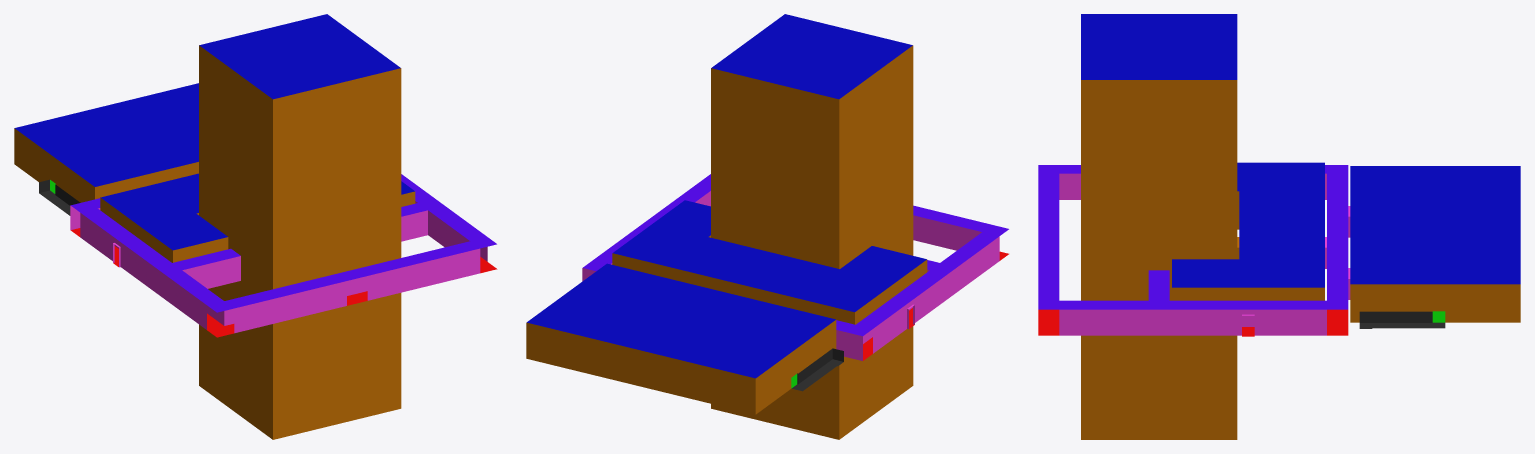
File: LabCentral.obj
3 renders of one model, left to right at view 1: azimuth 30°, elevation 25°; view 2: azimuth 150°, elevation 25°; view 3: azimuth 270°, elevation 25°, orthographic. The views are drawn at different scales.
Parts seen in each view (by area): view 1: Plane.001; view 2: Plane.001; view 3: Plane.001.
Part boxes in pixels (x1=…): Plane.001: x1=14, y1=14, x2=497, y2=439; Plane.001: x1=526, y1=14, x2=1008, y2=439; Plane.001: x1=1038, y1=14, x2=1520, y2=439.
Bounding box in the file's own units: 32.83 × 37.63 × 45.7.
